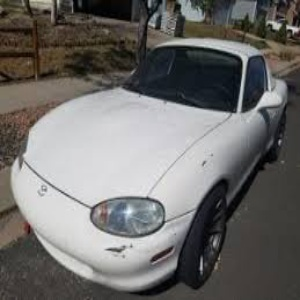bumper_scratch: (94, 237, 142, 272)
